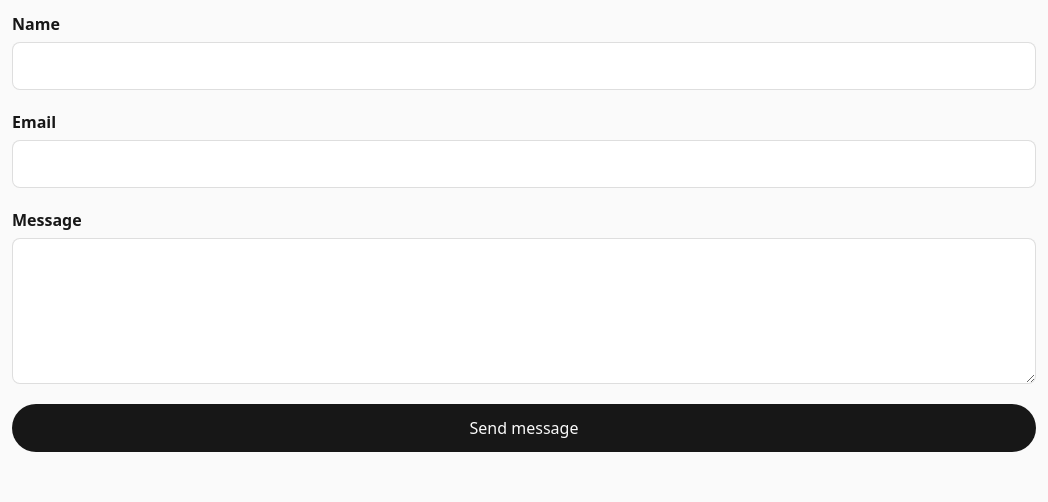
Test: ContactForm › shows the contract's refusal under the message when the body is empty, and keeps the rest
Type "Ravit" into the field labelled "Name".
click(524, 66); type("Ravit")  # box [12,42,1036,90]
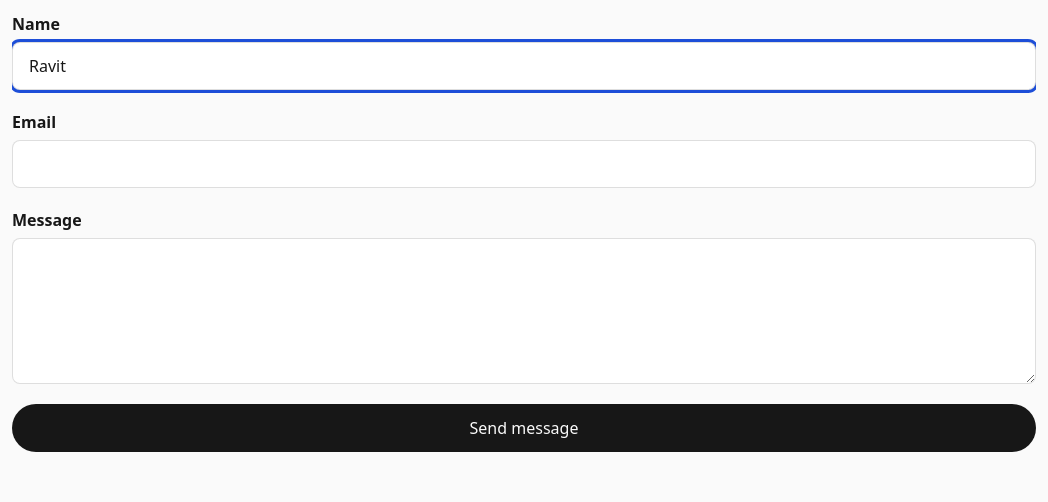
Type "ravit@example.test" into the field labelled "Email".
click(524, 164); type("ravit@example.test")  # box [12,140,1036,188]
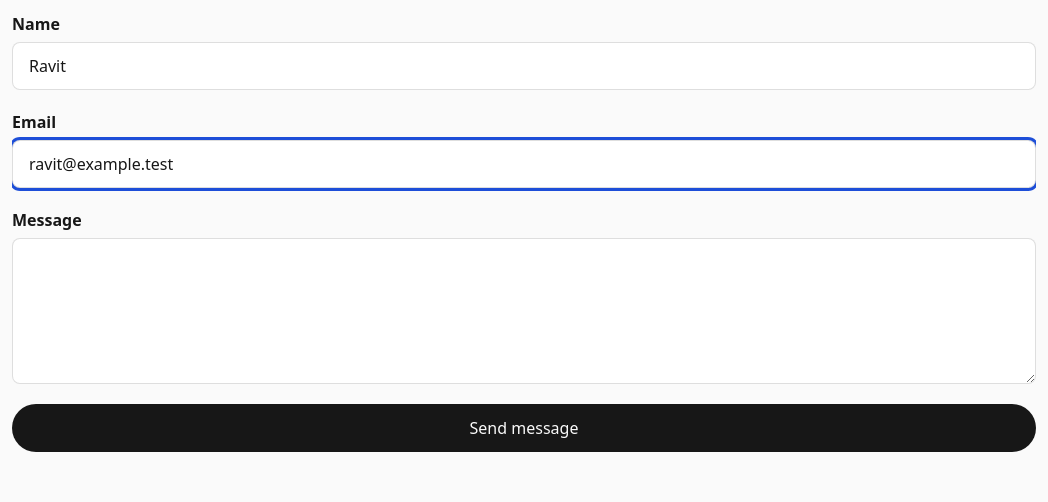
Click the button "Send message".
click(524, 428)  # box [12,404,1036,452]
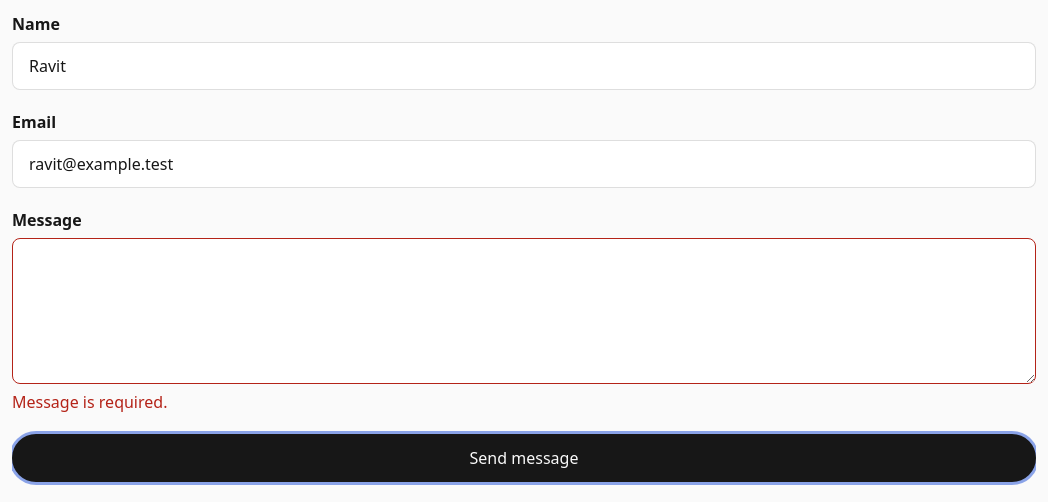
Result: the text "Message is required." is shown at [12,391,167,413]
